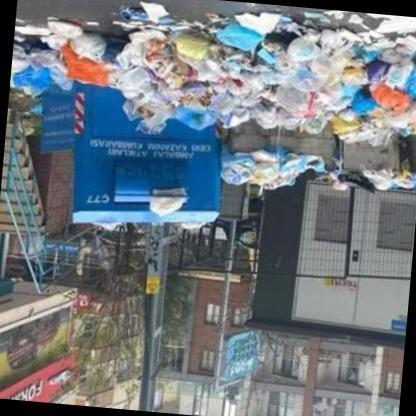Garbage: (131, 0, 376, 117), (214, 146, 333, 198), (373, 15, 415, 144), (328, 160, 415, 201), (225, 6, 286, 48), (62, 35, 121, 74), (118, 4, 190, 30), (296, 17, 374, 41), (148, 185, 190, 219), (286, 55, 326, 90), (78, 42, 106, 84), (217, 147, 247, 186), (22, 56, 56, 89), (182, 49, 216, 81), (246, 162, 286, 189), (334, 170, 372, 196), (391, 159, 415, 196), (288, 150, 318, 176), (365, 168, 395, 188), (283, 97, 307, 121), (52, 18, 90, 30), (146, 74, 162, 102)
